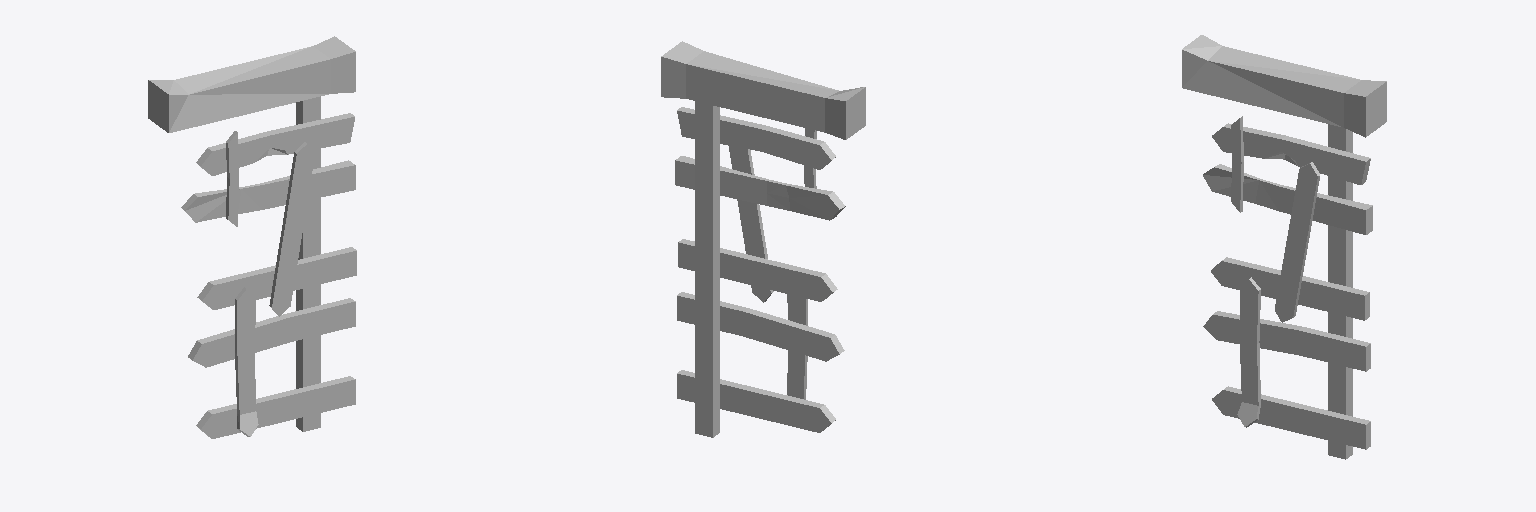
Rendered from SM_Fence_001.obj.
The picture shows the model from 3 angles: view 1: azimuth 30°, elevation 25°; view 2: azimuth 150°, elevation 25°; view 3: azimuth 330°, elevation 25°; orthographic projection.
Parts seen in each view (by area): view 1: SM_Fence_001; view 2: SM_Fence_001; view 3: SM_Fence_001.
Boxes of the visible parts, box(x1,y1,x2,y2) form: SM_Fence_001: box(148, 36, 356, 438); SM_Fence_001: box(661, 41, 865, 437); SM_Fence_001: box(1182, 35, 1386, 459).
Bounding box in the file's own units: 20.39 × 39.48 × 5.69.